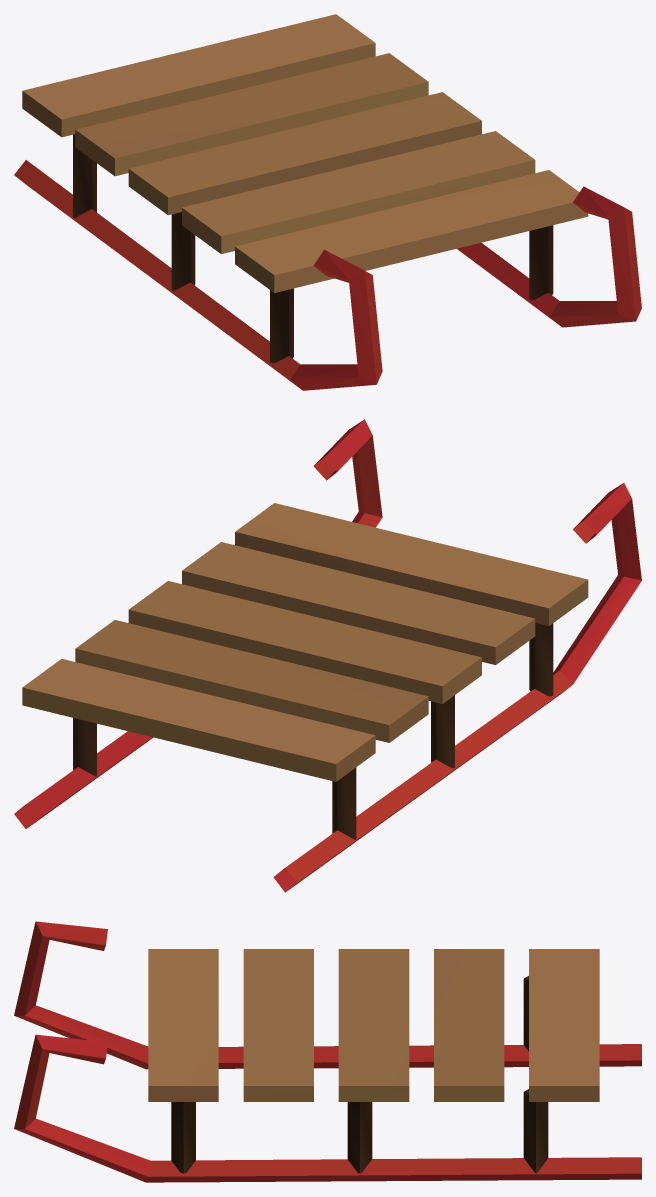
File: Alpine_Sledge.fbx
3 renders of one model, top to bottom at view 1: azimuth 30°, elevation 25°; view 2: azimuth 150°, elevation 25°; view 3: azimuth 270°, elevation 25°, orthographic. The views are drawn at different scales.
Parts seen in each view (by area): view 1: Alpine_Sledge; view 2: Alpine_Sledge; view 3: Alpine_Sledge.
Part boxes in pixels (x1,y1,x2,y2): Alpine_Sledge: [14, 14, 641, 390]; Alpine_Sledge: [14, 419, 641, 892]; Alpine_Sledge: [14, 921, 641, 1182].
Bounding box in the file's own units: 0.92 × 0.4631 × 1.78.
